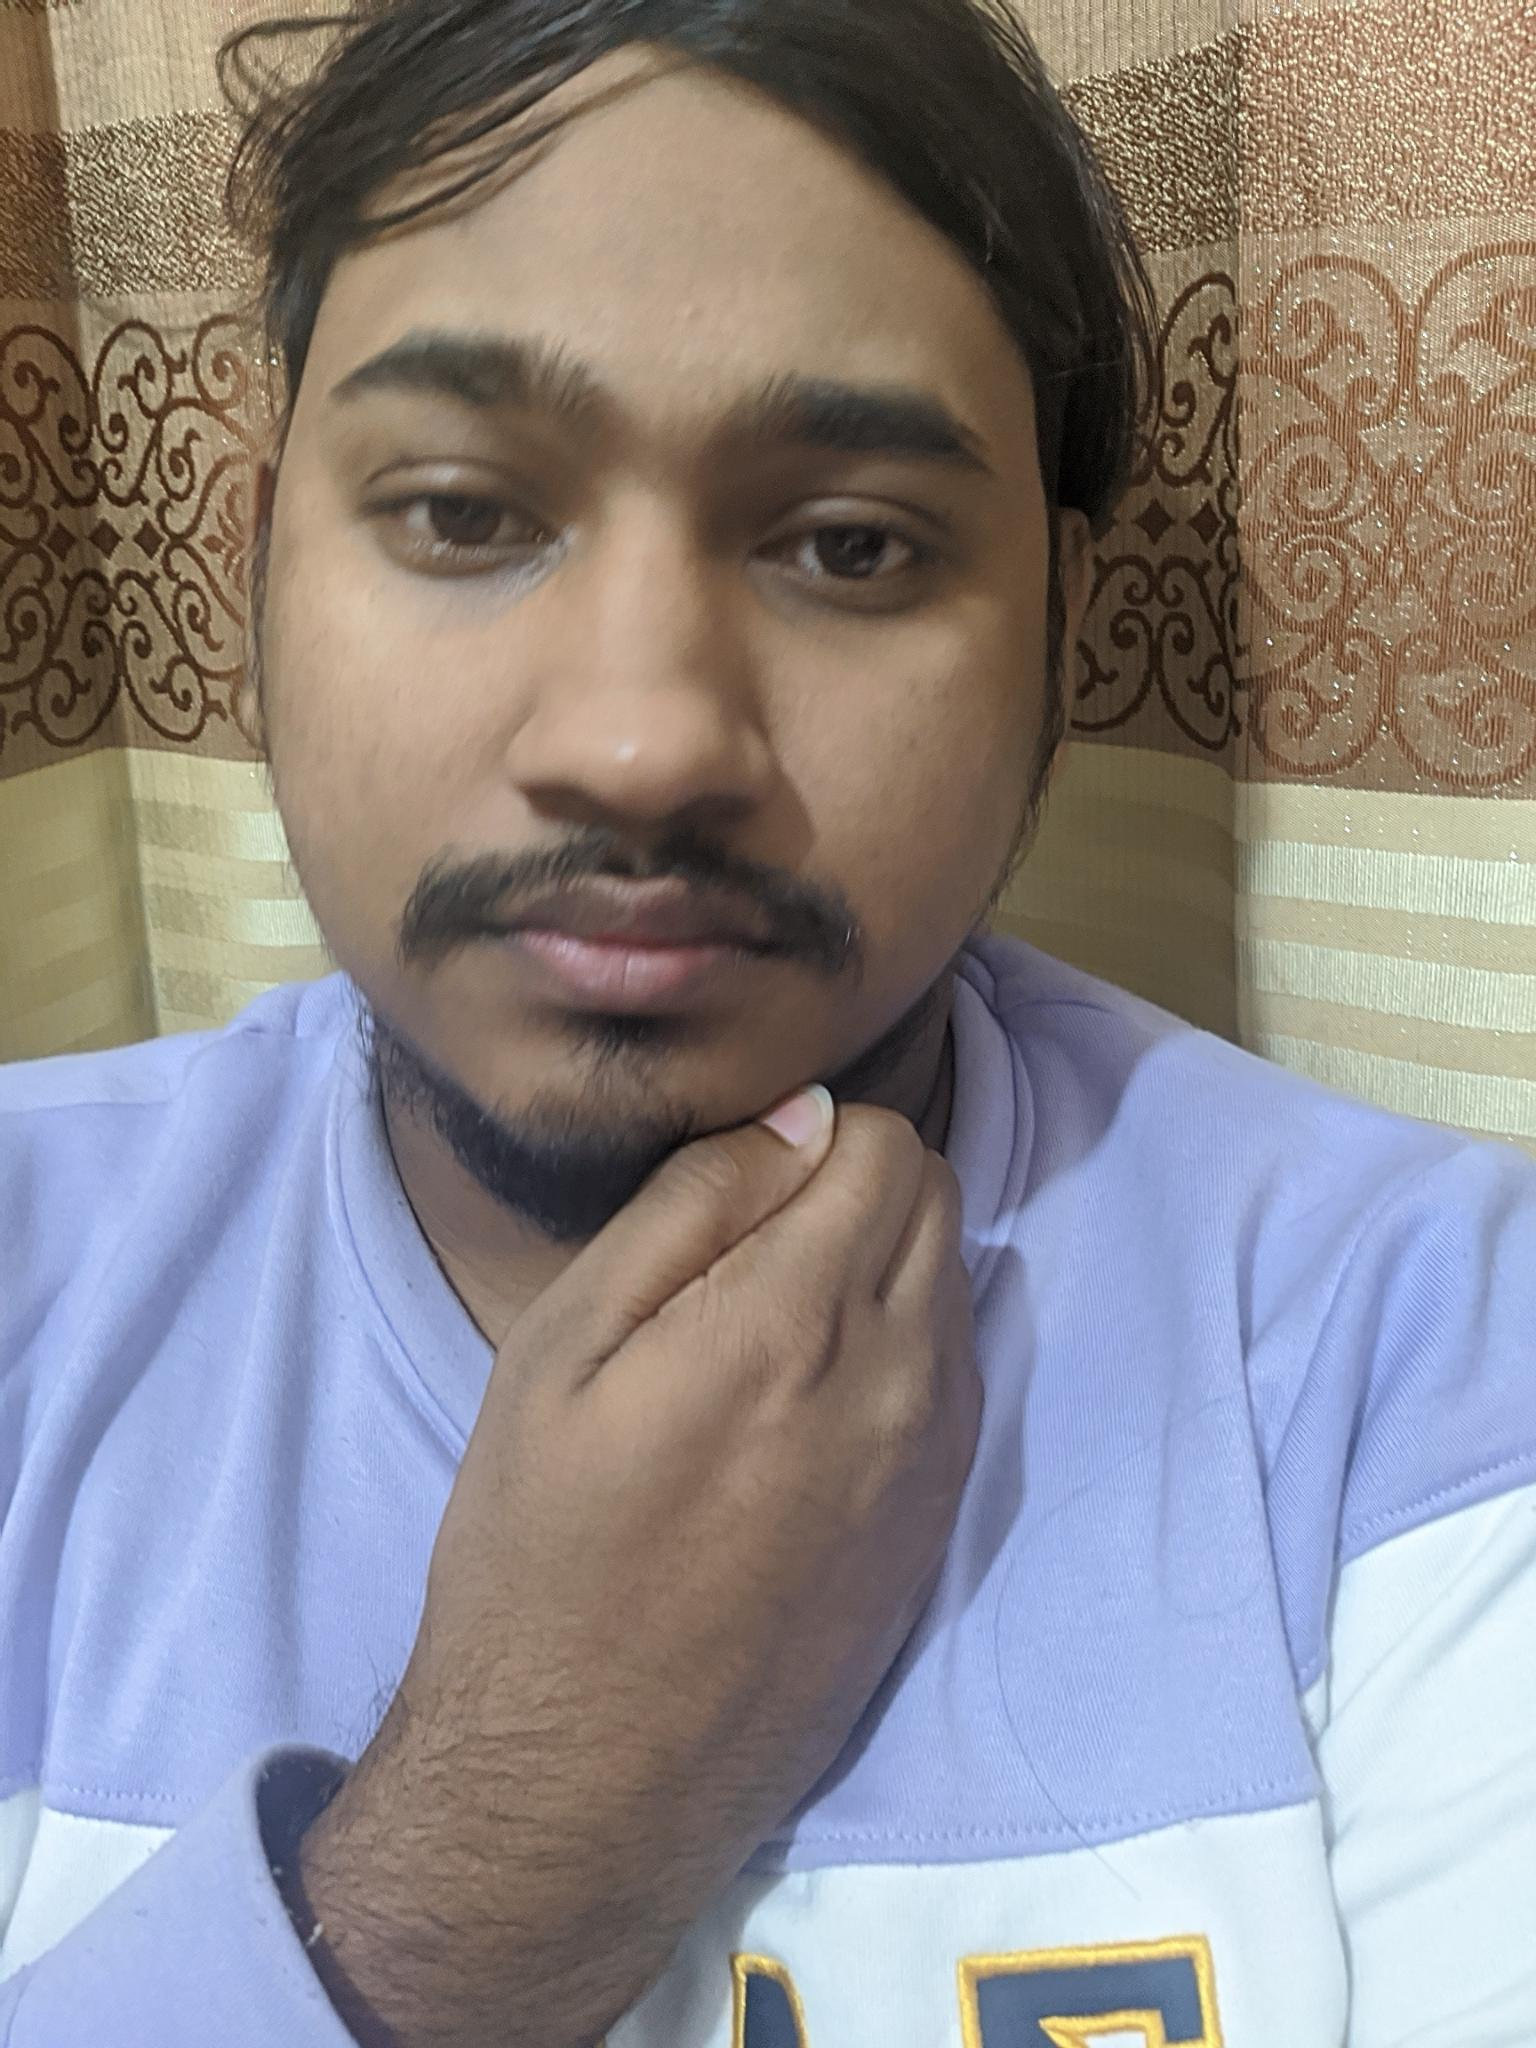Neutral: (298, 250, 1020, 1130)
